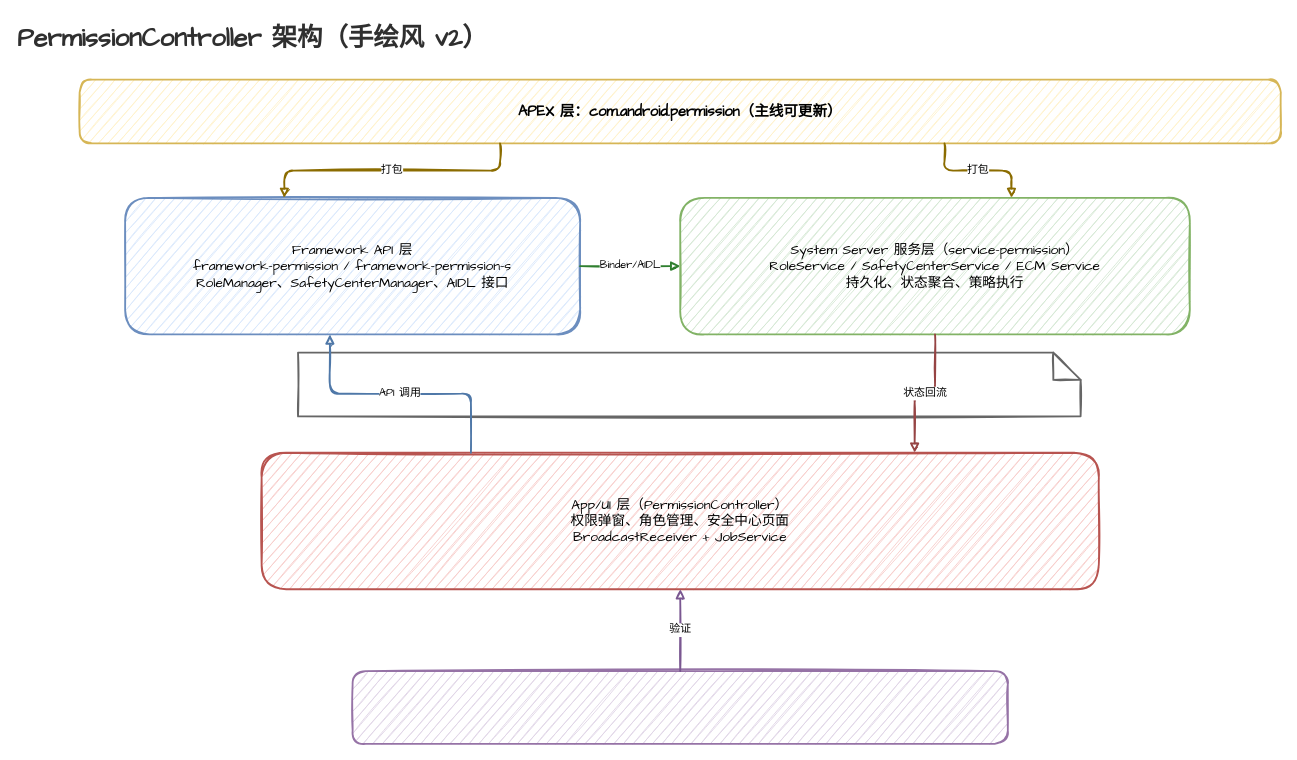
This 1297x760 diagram has some shape labels left out. Each missing label, with the centre of its shape:
主链路：UI 调用 Framework API → Binder/AIDL → system_server 服务执行 → 状态回流到 UI: [689,384]
测试层：CTS / Functional / Hostside / UI Tests: [679,707]
